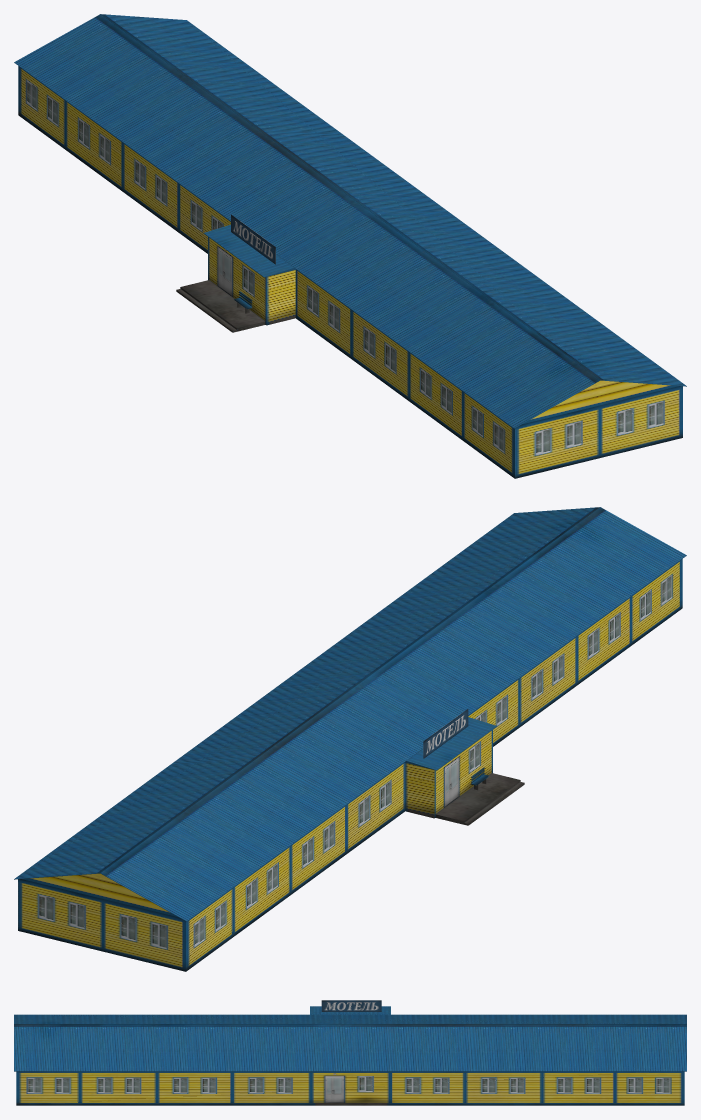
File: r402_motel.FBX
3 views of the same model, one above another, from view 1: azimuth 30°, elevation 25°; view 2: azimuth 150°, elevation 25°; view 3: azimuth 270°, elevation 25° (orthographic). The views are drawn at different scales.
Visible parts, largest first — view 1: r402_motel; view 2: r402_motel; view 3: r402_motel.
Boxes of the visible parts, left/top/right/bottom form: r402_motel: left=14, top=14, right=686, bottom=478; r402_motel: left=14, top=507, right=686, bottom=971; r402_motel: left=14, top=1000, right=686, bottom=1105.
Size of the model in its own units: 1385 by 5160 by 452.
